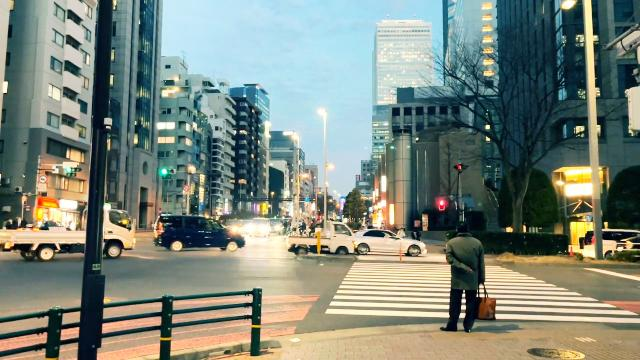berdiri: (435, 219, 497, 338)
